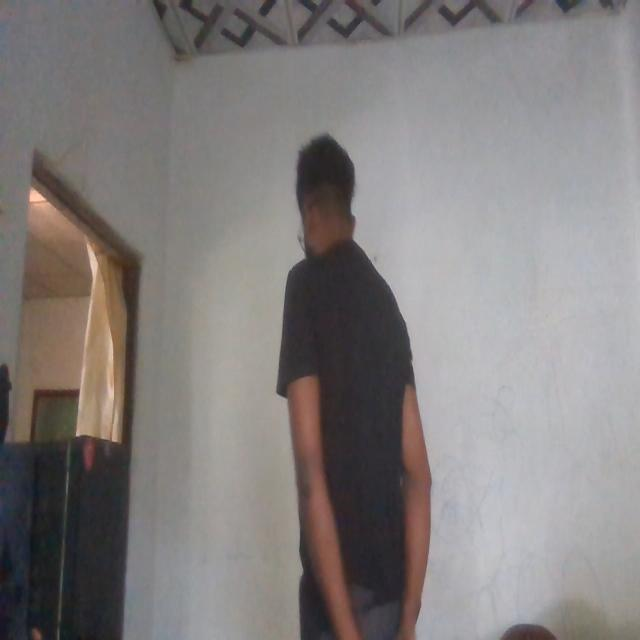Person: (276, 117, 438, 640)
